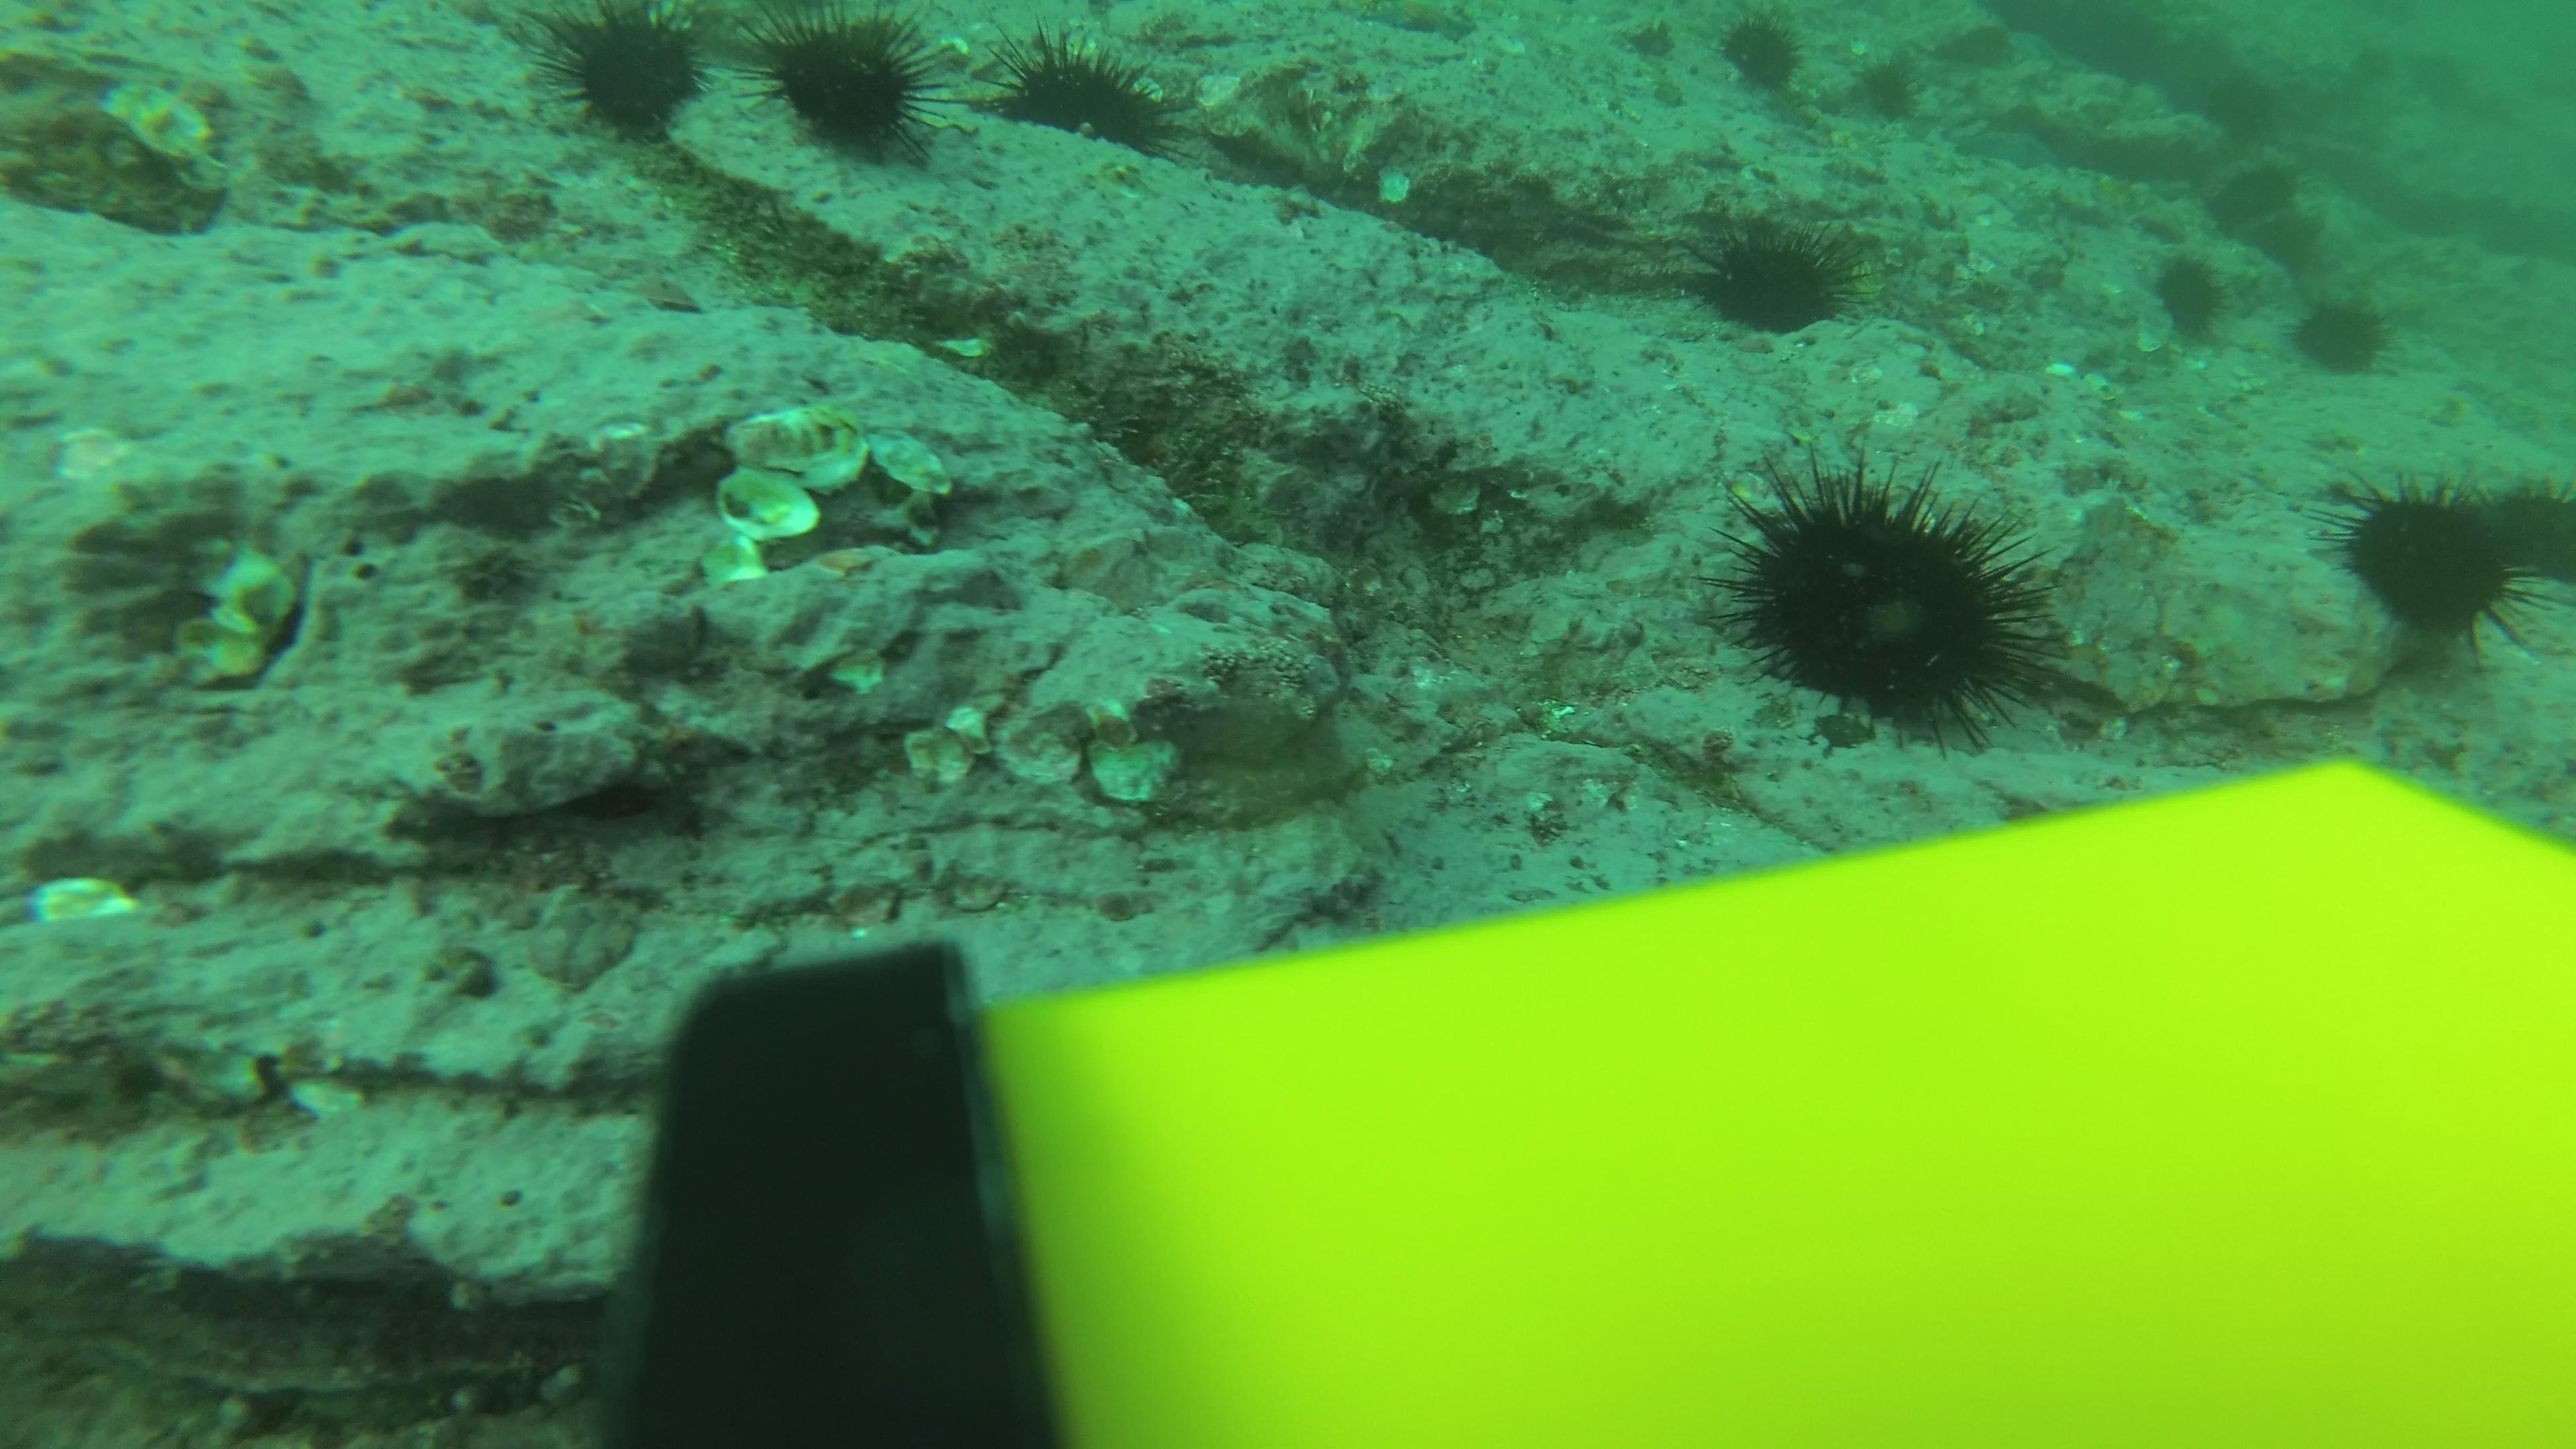echinus: (1709, 449, 2063, 748), (2323, 469, 2546, 658), (741, 4, 954, 168), (980, 23, 1184, 165), (531, 4, 718, 145), (1684, 214, 1865, 340), (1707, 7, 1817, 104), (2286, 287, 2399, 380), (2137, 246, 2240, 347), (2204, 67, 2309, 149), (2201, 152, 2293, 228), (1845, 51, 1928, 129), (2263, 207, 2325, 267)
starfish: (1943, 115, 2063, 175)
